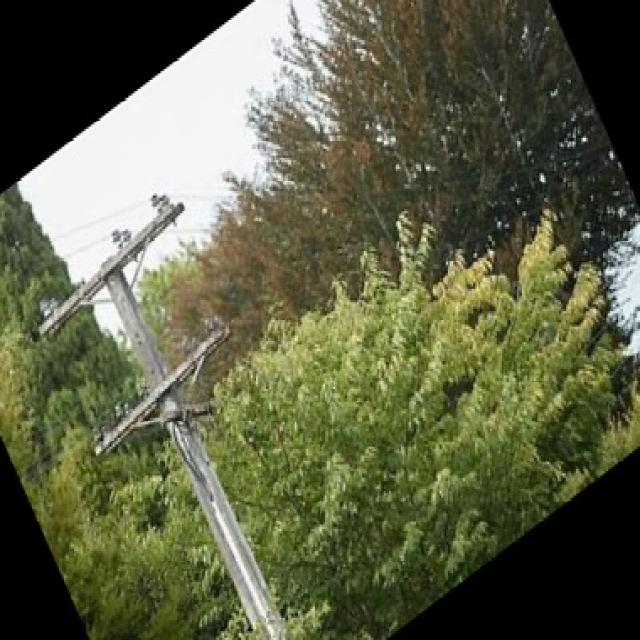utility poles: (50, 225, 383, 636)
